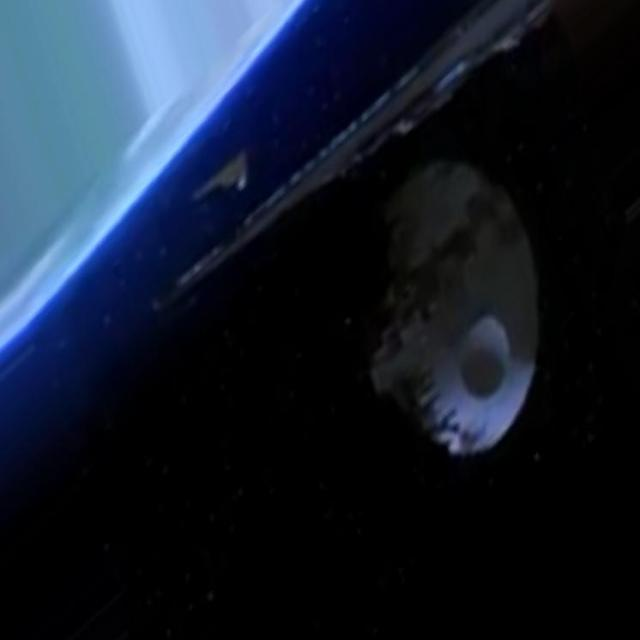deathstar: (371, 161, 539, 456)
